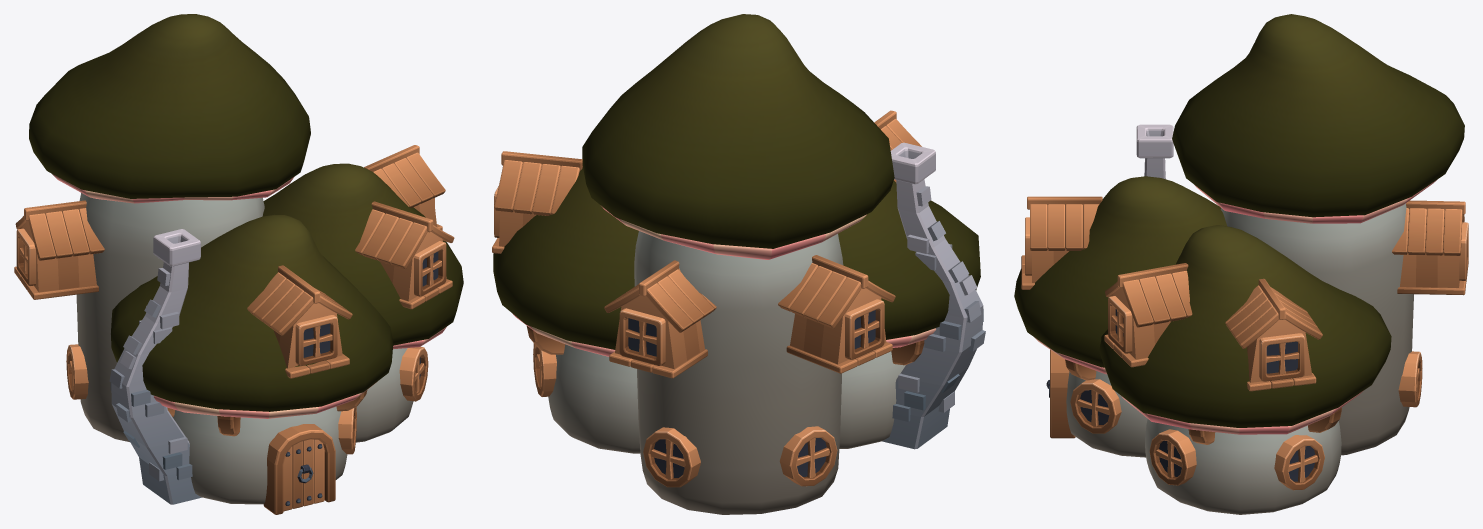
Rendered from mt_house13.fbx.
3 renders of one model, left to right at view 1: azimuth 30°, elevation 25°; view 2: azimuth 150°, elevation 25°; view 3: azimuth 270°, elevation 25°, orthographic. The views are drawn at different scales.
Parts seen in each view (by area): view 1: h13; view 2: h13; view 3: h13.
Boxes of the visible parts, x1,y1,x2,y2 form: h13: [14, 14, 463, 514]; h13: [492, 14, 985, 514]; h13: [1014, 14, 1468, 514].
Bounding box in the file's own units: 1041 × 1056 × 1068.
